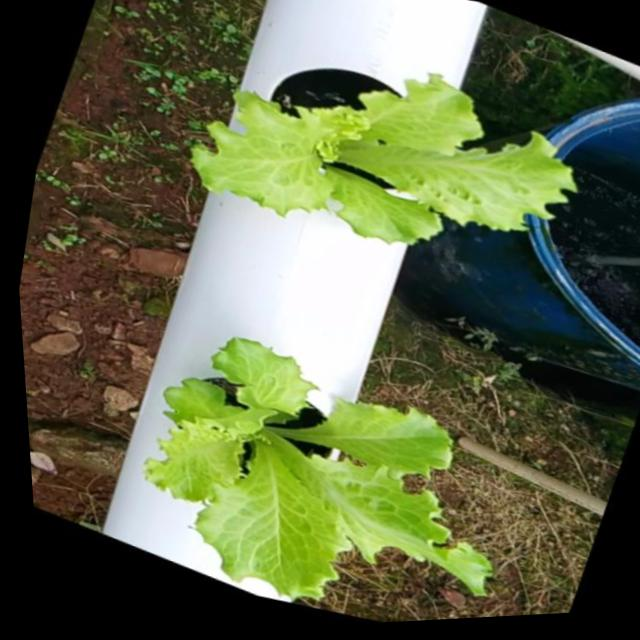Baby: (141, 336, 492, 599), (192, 65, 578, 241)
